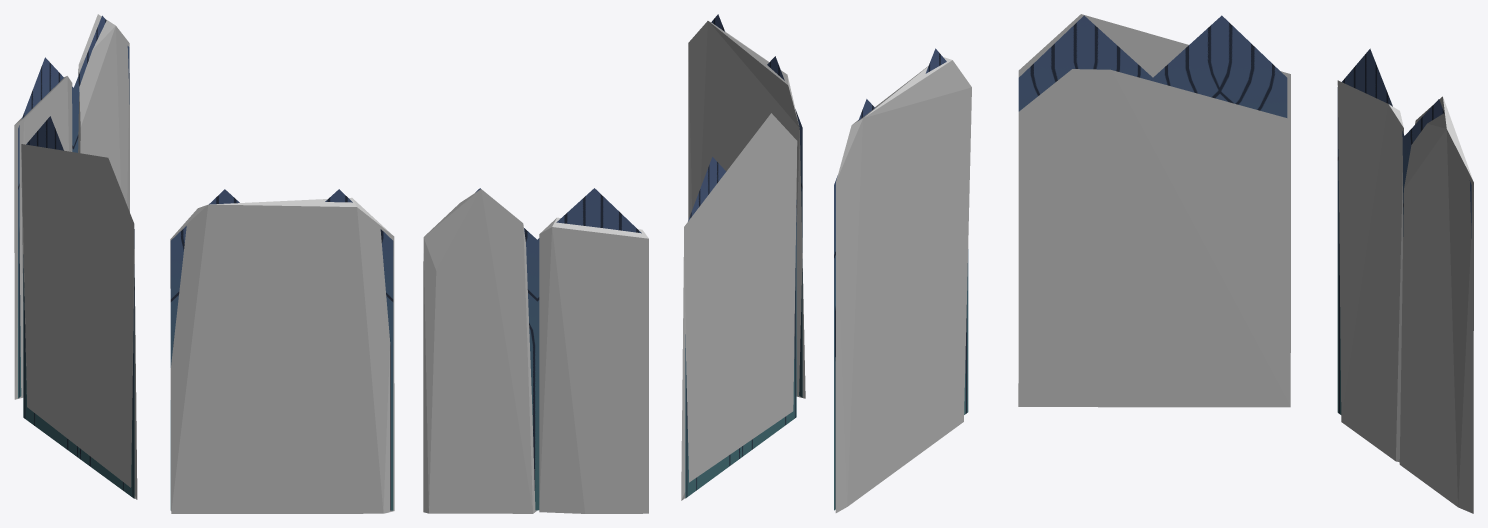
The model's file is SM_Bld_Window_Box_01_Glass_01.fbx.
3 renders of one model, left to right at view 1: azimuth 30°, elevation 25°; view 2: azimuth 150°, elevation 25°; view 3: azimuth 270°, elevation 25°, orthographic. The views are drawn at different scales.
Parts seen in each view (by area): view 1: SM_Bld_Window_Box_01_Glass_01_ConvexHulls, SM_Bld_Window_Box_01_Glass_01; view 2: SM_Bld_Window_Box_01_Glass_01_ConvexHulls, SM_Bld_Window_Box_01_Glass_01; view 3: SM_Bld_Window_Box_01_Glass_01_ConvexHulls, SM_Bld_Window_Box_01_Glass_01.
Boxes of the visible parts, x1,y1,x2,y2 form: SM_Bld_Window_Box_01_Glass_01_ConvexHulls: (14, 14, 394, 513); SM_Bld_Window_Box_01_Glass_01: (18, 15, 393, 510); SM_Bld_Window_Box_01_Glass_01_ConvexHulls: (423, 21, 805, 513); SM_Bld_Window_Box_01_Glass_01: (475, 14, 802, 510); SM_Bld_Window_Box_01_Glass_01_ConvexHulls: (835, 14, 1473, 513); SM_Bld_Window_Box_01_Glass_01: (834, 15, 1471, 510).
Bounding box in the file's own units: 90.46 × 225 × 152.
2 materials, 1 textured.
